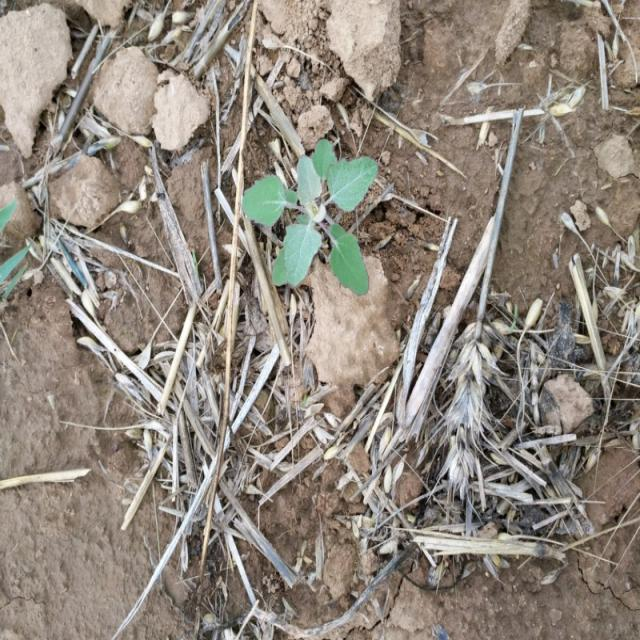goosefoots: (230, 127, 396, 289)
